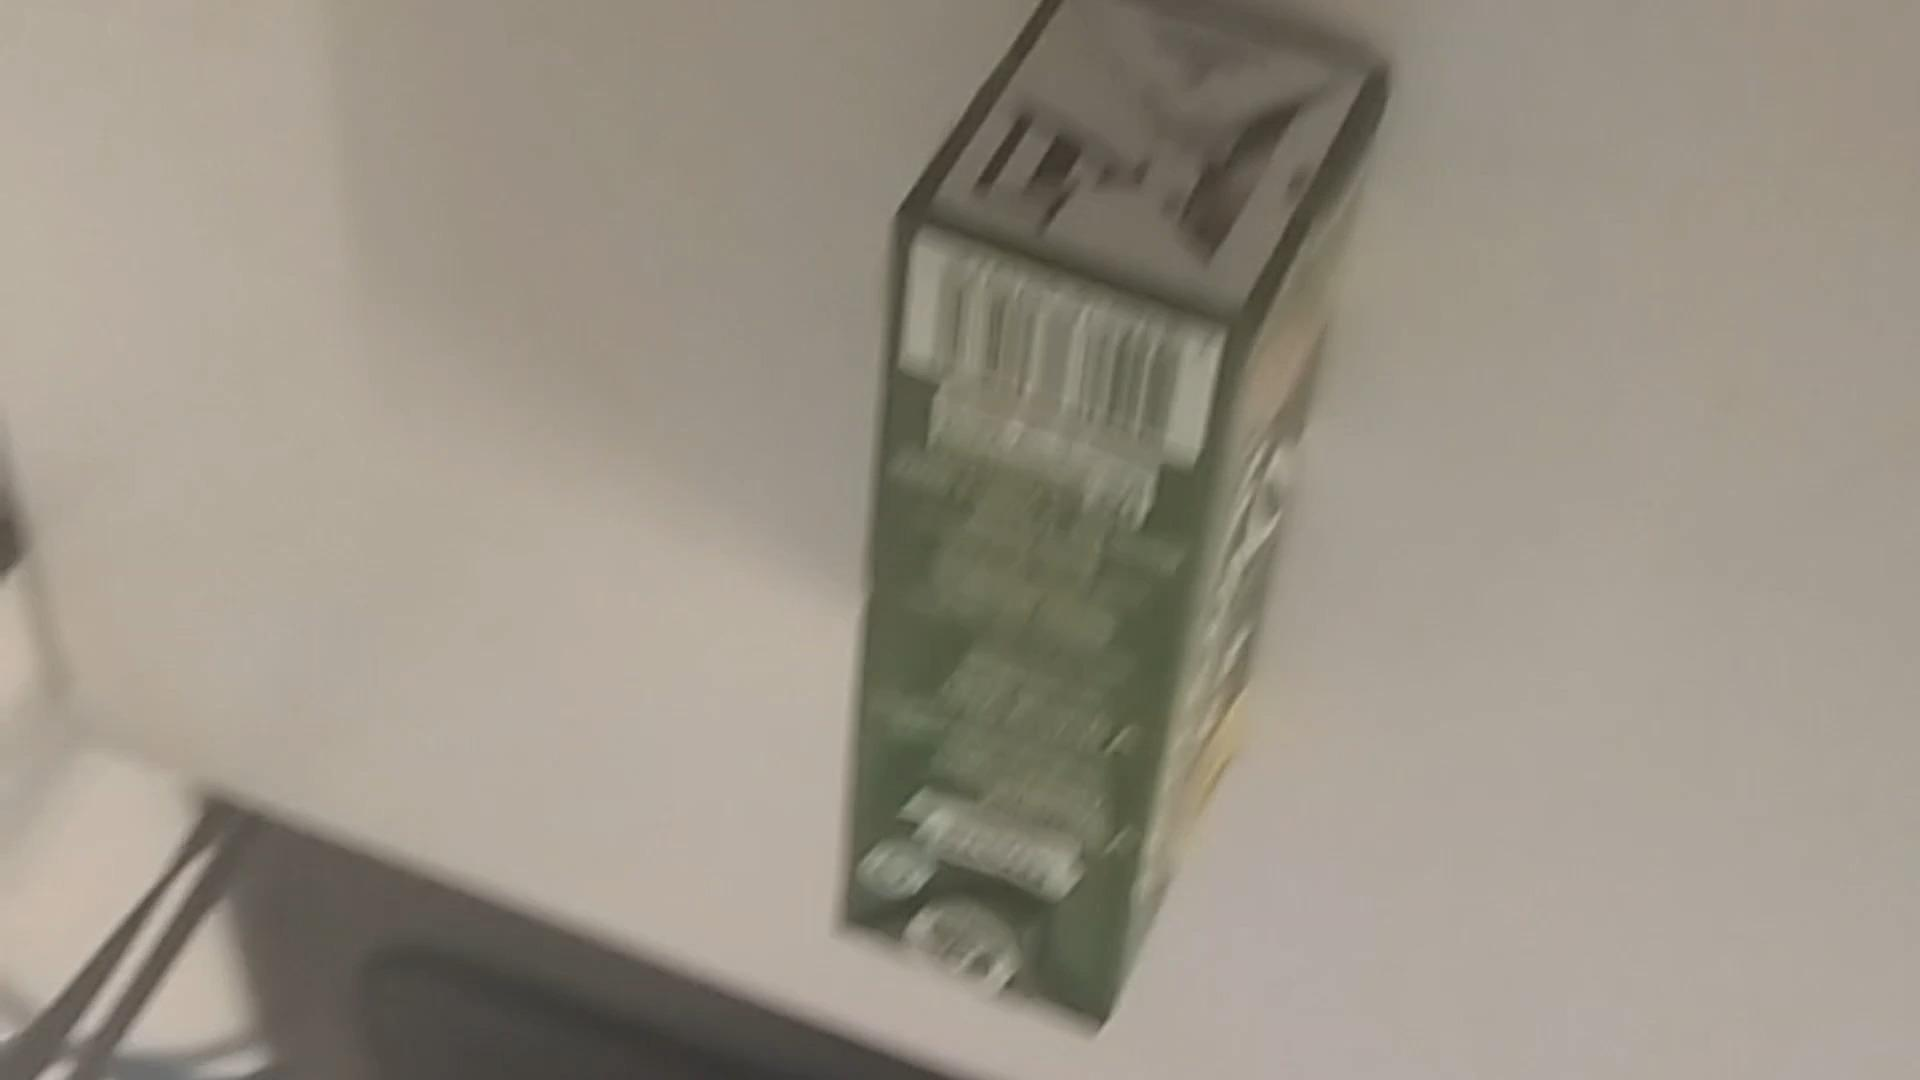coco: (840, 0, 1412, 1030)
